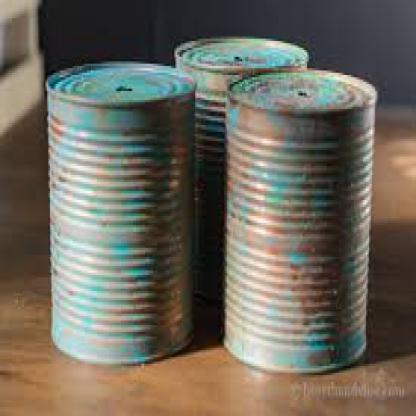METAL: (42, 57, 197, 361), (224, 66, 375, 368), (173, 34, 307, 302)
